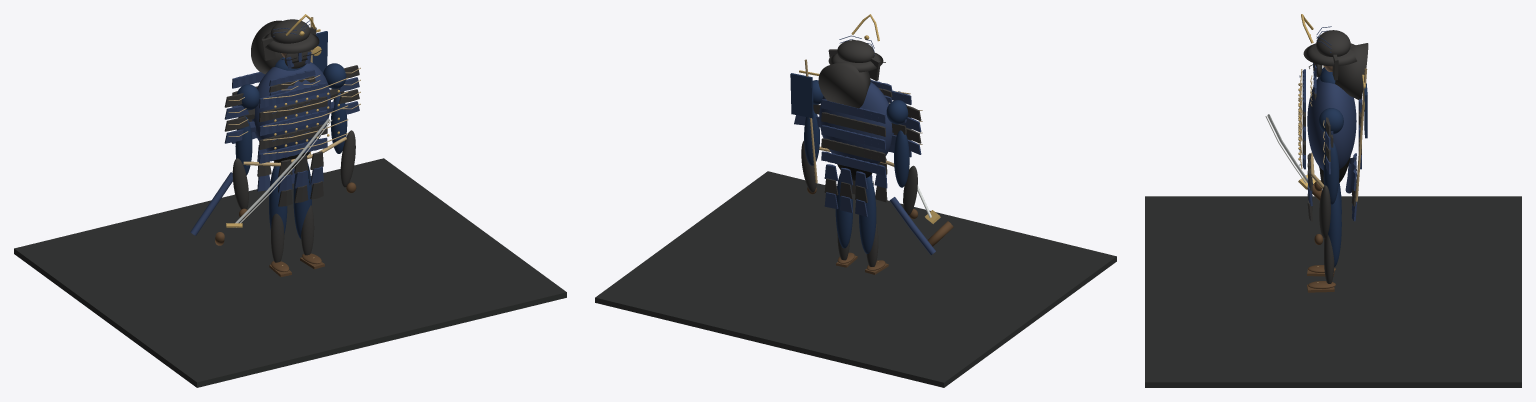
Rendered from actor-uesugi-00.glb.
The picture shows the model from 3 angles, left to right: view 1: azimuth 30°, elevation 25°; view 2: azimuth 150°, elevation 25°; view 3: azimuth 270°, elevation 25°; orthographic projection. The views are drawn at different scales.
Parts seen in each view (by area): view 1: matte charcoal inspection plinth, rounded do cuirass silhouette, rear shikoro neck guard flare, segmented kabuto helmet bowl, right armored upper arm, right kote forearm guard, left kote forearm guard, wide kabuto brim, left hakama trouser leg, right hakama trouser leg, left armored upper arm, left shin greave (+2 smaller); view 2: matte charcoal inspection plinth, rear shikoro neck guard flare, rounded do cuirass silhouette, cloth sashimono banner panel, left hakama trouser leg, left armored upper arm, segmented kabuto helmet bowl, right hakama trouser leg, right armored upper arm, left kote forearm guard, lacquered saya scabbard at left hip; view 3: matte charcoal inspection plinth, rounded do cuirass silhouette, rear shikoro neck guard flare, segmented kabuto helmet bowl, right hakama trouser leg, wide kabuto brim, right armored upper arm, right kote forearm guard, right shoulder undercloth, right shin greave, bamboo sashimono back pole.
Boxes of the visible parts, x1,y1,x2,y2 form: matte charcoal inspection plinth: (14,158,566,387); rounded do cuirass silhouette: (252,62,330,151); rear shikoro neck guard flare: (251,20,283,74); segmented kabuto helmet bowl: (270,19,310,43); right armored upper arm: (331,93,347,153); right kote forearm guard: (340,130,355,187); left kote forearm guard: (232,158,248,209); wide kabuto brim: (261,33,319,53); left hakama trouser leg: (269,166,287,234); right hakama trouser leg: (293,163,311,239); left armored upper arm: (235,116,252,175); left shin greave: (271,213,284,262); matte charcoal inspection plinth: (595,171,1116,387); rear shikoro neck guard flare: (818,61,870,108); rounded do cuirass silhouette: (819,82,893,164); cloth sashimono banner panel: (790,73,813,118); left hakama trouser leg: (859,176,876,253); left armored upper arm: (894,130,909,187); segmented kabuto helmet bowl: (837,40,874,62); right hakama trouser leg: (835,173,852,248); right armored upper arm: (804,111,819,165); left kote forearm guard: (903,165,917,215); lacquered saya scabbard at left hip: (889,197,935,254); matte charcoal inspection plinth: (1145,196,1521,387); rounded do cuirass silhouette: (1307,76,1356,170); rear shikoro neck guard flare: (1335,43,1368,99); segmented kabuto helmet bowl: (1316,30,1350,56); right hakama trouser leg: (1328,189,1341,267); wide kabuto brim: (1303,43,1356,66); right armored upper arm: (1323,142,1339,204); right kote forearm guard: (1319,185,1330,238); right shoulder undercloth: (1319,108,1343,134); right shin greave: (1324,234,1334,283); bamboo sashimono back pole: (1355,68,1367,201).
Size of the model in its own units: 4.2 by 2.96 by 3.6.
